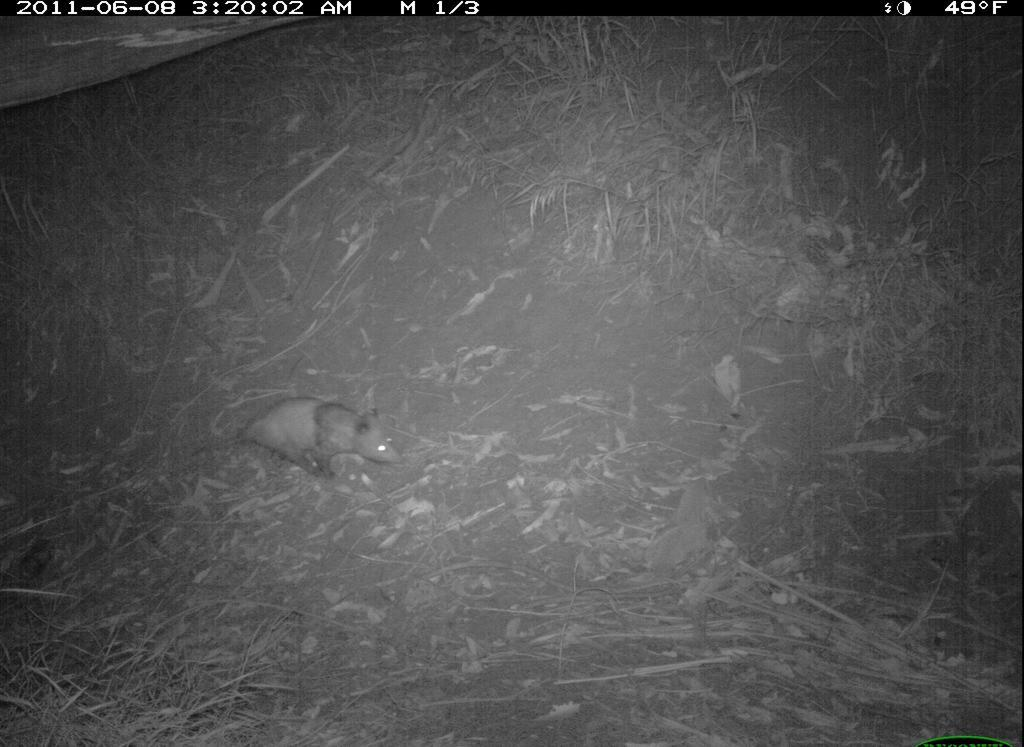opossum: (180, 393, 409, 511)
